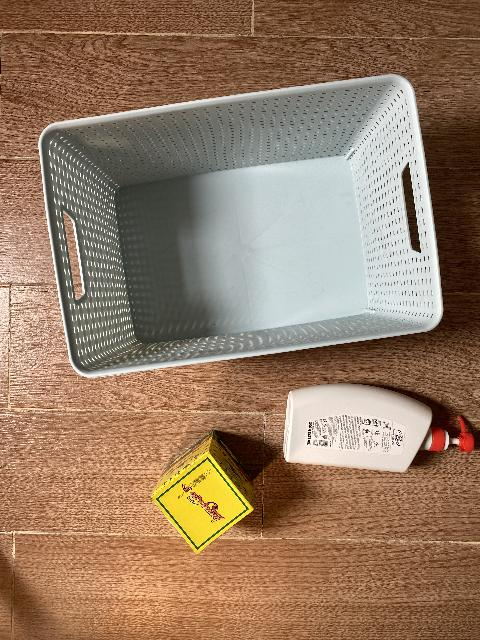cart: (38, 75, 444, 379)
life-buoy: (283, 383, 475, 473)
luong_kho: (151, 428, 254, 555)
